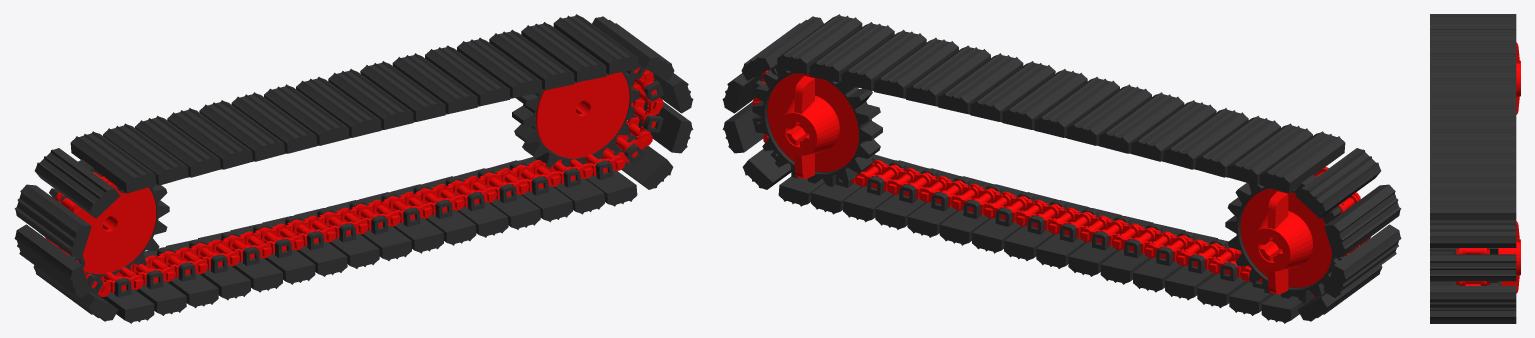
File: conveyorsmall.fbx
3 views of the same model, side by side, from view 1: azimuth 30°, elevation 25°; view 2: azimuth 150°, elevation 25°; view 3: azimuth 270°, elevation 25° (orthographic). The views are drawn at different scales.
Visible parts, largest first — view 1: Circle.001, Wheel2.001, Wheel1.001; view 2: Circle.001, Wheel2.001, Wheel1.001; view 3: Circle.001, Wheel2.001, Wheel1.001.
Boxes of the visible parts, x1=… form: Circle.001: x1=14, y1=14, x2=693, y2=323; Wheel2.001: x1=512, y1=71, x2=640, y2=168; Wheel1.001: x1=39, y1=159, x2=169, y2=280; Circle.001: x1=722, y1=14, x2=1401, y2=323; Wheel2.001: x1=752, y1=64, x2=882, y2=186; Wheel1.001: x1=1225, y1=175, x2=1351, y2=303; Circle.001: x1=1430, y1=14, x2=1516, y2=323; Wheel2.001: x1=1480, y1=221, x2=1520, y2=293; Wheel1.001: x1=1516, y1=42, x2=1520, y2=114.
Bounding box in the file's own units: 1720 × 392 × 280.
